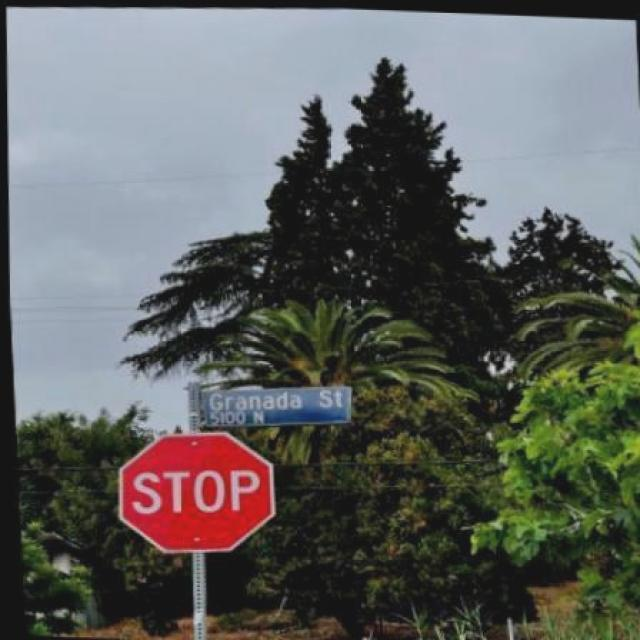stop_sign: (111, 422, 273, 558)
